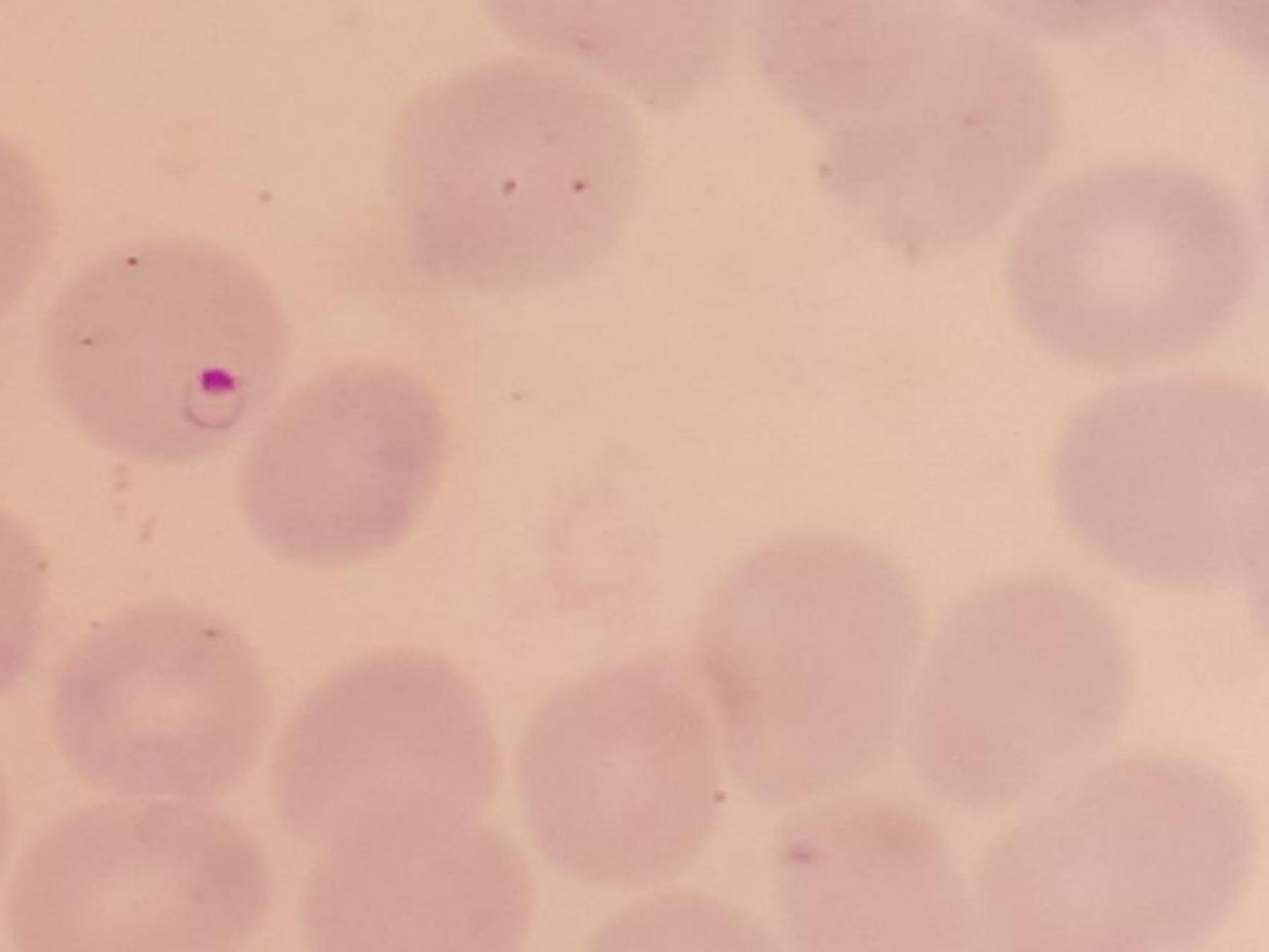Infected: (48, 241, 288, 467)
Uninfected: (699, 532, 923, 806), (387, 63, 650, 290), (813, 35, 1064, 256), (897, 583, 1141, 808), (978, 755, 1252, 952), (1005, 161, 1248, 368), (1054, 375, 1269, 600), (267, 650, 508, 842), (50, 597, 267, 797), (0, 798, 275, 952), (517, 663, 712, 880), (240, 365, 447, 559), (299, 798, 537, 952), (773, 795, 982, 952)
